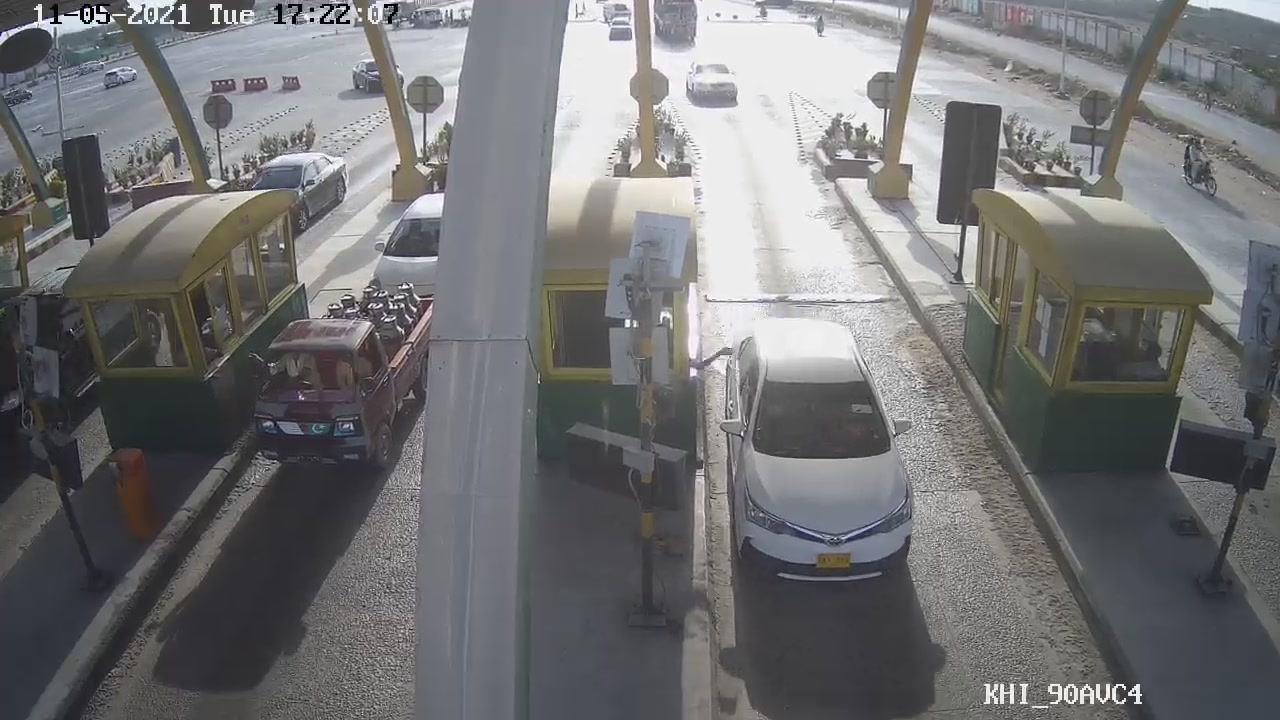F1: (717, 319, 925, 597)
